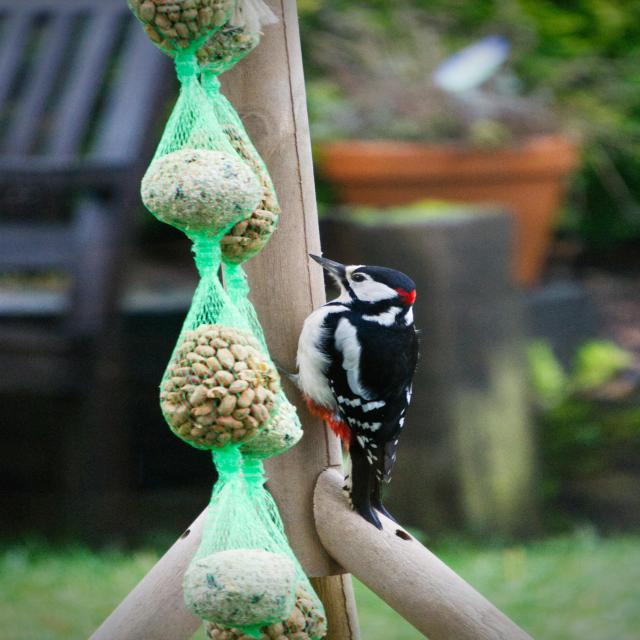Woodpecker: (282, 248, 432, 529)
